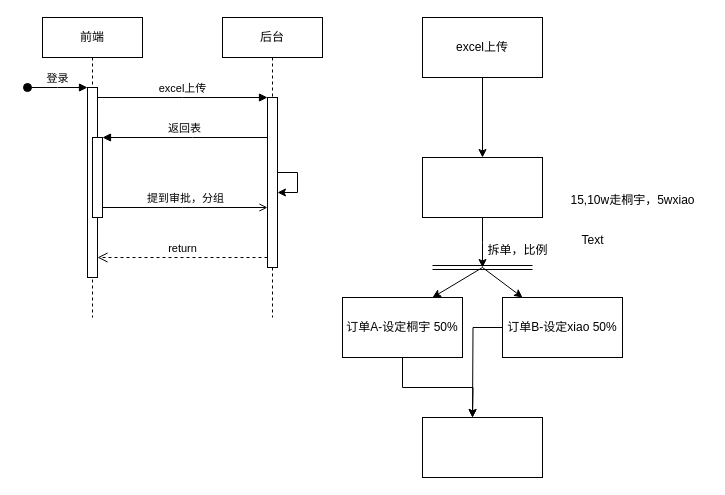
Some shapes in this 725 by 495 pixel diagram are drawn without their labels. The centre of each missing label's shape, as x and y in pixels:
"list放回" belongs at pixel 482 447.
"上传和用户信息无关" belongs at pixel 482 187.
